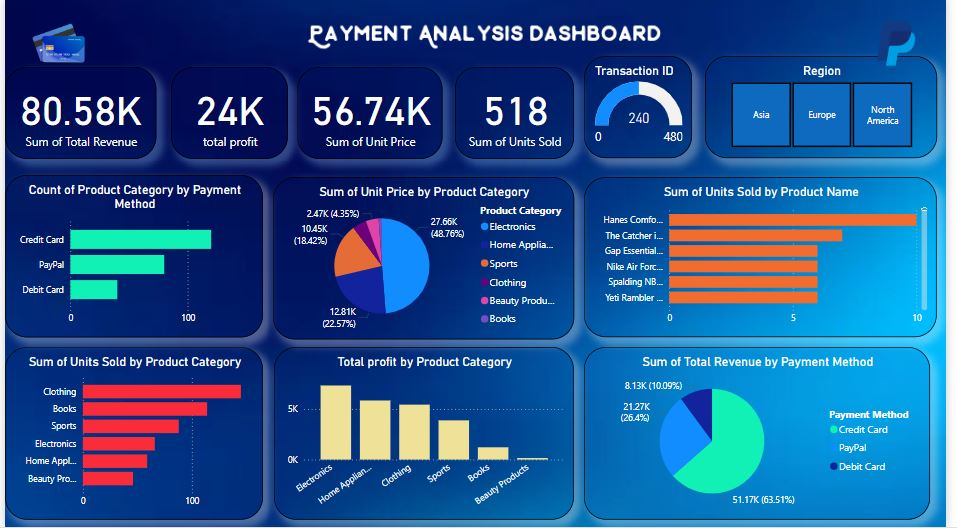

Layout of this report page (visuals, bound fields, positions):
{"tool":"powerbi","page":{"name":"Page 1","canvas":[1280,720],"ordinal":0},"visuals":[{"type":"card","fields":{"Values":["Sum(Online Sales Data.Total Revenue)"]},"box":[0,93.5,205.5,124.7],"z":0},{"type":"card","fields":{"Values":["Sum(Online Sales Data.Unit Price)"]},"box":[396.9,93.5,198.4,124.7],"z":2},{"type":"pieChart","fields":{"Category":["Online Sales Data.Payment Method"],"Y":["Sum(Online Sales Data.Total Revenue)"]},"box":[788,474.8,470.6,235.3],"z":4},{"type":"barChart","fields":{"Category":["Online Sales Data.Product Name"],"Y":["Sum(Online Sales Data.Units Sold)"]},"box":[788,243.8,480.5,218.3],"z":7},{"type":"pieChart","fields":{"Category":["Online Sales Data.Product Category"],"Y":["Sum(Online Sales Data.Unit Price)"]},"box":[364.3,243.8,409.6,221.1],"z":11},{"type":"card","fields":{"Values":["Online Sales Data.total profit"]},"box":[225.4,93.5,158.7,124.7],"z":14},{"type":"gauge","title":"Transaction ID","fields":{"Y":["CountNonNull(Online Sales Data.Transaction ID)"]},"box":[788,79.4,147.4,138.9],"z":15},{"type":"clusteredColumnChart","title":"Total profit by Product Category","fields":{"Category":["Online Sales Data.Product Category"],"Y":["Online Sales Data.total profit"]},"box":[365.7,474.8,408.2,235.3],"z":16},{"type":"barChart","fields":{"Y":["Sum(Online Sales Data.Units Sold)"],"Category":["Online Sales Data.Product Category"]},"box":[0,474.8,351.5,235.3],"z":17},{"type":"barChart","fields":{"Category":["Online Sales Data.Payment Method"],"Y":["CountNonNull(Online Sales Data.Product Category)"]},"box":[0,240.9,351.5,221.1],"z":19},{"type":"card","fields":{"Values":["Sum(Online Sales Data.Units Sold)"]},"box":[612.3,93.5,161.6,124.7],"z":20},{"type":"slicer","title":"Region","fields":{"Values":["Online Sales Data.Region"]},"box":[952.4,79.4,316.1,138.9],"z":21},{"type":"image","box":[9.9,0,126.1,123.3],"z":22},{"type":"image","box":[1148,0,131.8,123.3],"z":24},{"type":"image","box":[384.1,0,557,123.3],"z":25}]}

Visuals, with their boxes in screenshot pixels (x1, y1, x2, y2), scaled from the page's 1280x720 canvas onto the 957x528 screenshot:
card - Sum(Online Sales Data.Total Revenue): [0,69,154,160]
card - Sum(Online Sales Data.Unit Price): [297,69,445,160]
pieChart - Online Sales Data.Payment Method x Sum(Online Sales Data.Total Revenue): [589,348,941,521]
barChart - Online Sales Data.Product Name x Sum(Online Sales Data.Units Sold): [589,179,948,339]
pieChart - Online Sales Data.Product Category x Sum(Online Sales Data.Unit Price): [272,179,579,341]
card - Online Sales Data.total profit: [169,69,287,160]
"Transaction ID" gauge: [589,58,699,160]
"Total profit by Product Category" clusteredColumnChart: [273,348,579,521]
barChart - Sum(Online Sales Data.Units Sold) x Online Sales Data.Product Category: [0,348,263,521]
barChart - Online Sales Data.Payment Method x CountNonNull(Online Sales Data.Product Category): [0,177,263,339]
card - Sum(Online Sales Data.Units Sold): [458,69,579,160]
"Region" slicer: [712,58,948,160]
image: [7,0,102,90]
image: [858,0,956,90]
image: [287,0,704,90]
